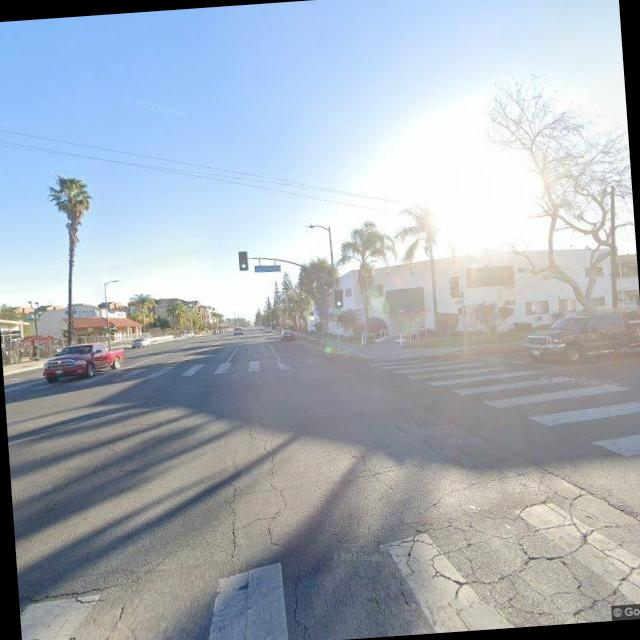crack: (354, 439, 640, 636), (240, 373, 312, 640), (15, 533, 205, 623), (216, 466, 251, 564)
